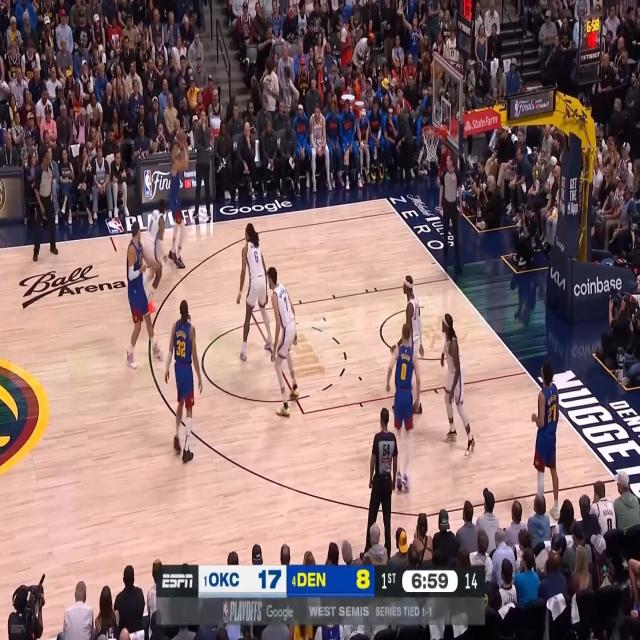ball: (179, 129, 187, 148)
number: (175, 337, 187, 360), (547, 403, 557, 425), (400, 362, 407, 382), (282, 294, 288, 314), (252, 248, 259, 264)
player: (164, 298, 203, 466), (386, 322, 422, 497), (124, 221, 165, 370), (438, 308, 477, 459), (531, 360, 564, 523), (236, 221, 274, 360), (266, 266, 300, 418), (390, 274, 424, 416), (139, 198, 168, 314)
player-jump-shot: (168, 127, 191, 272)
referee: (361, 406, 398, 563), (30, 146, 60, 263), (438, 154, 464, 272)
rim: (420, 123, 440, 137)
